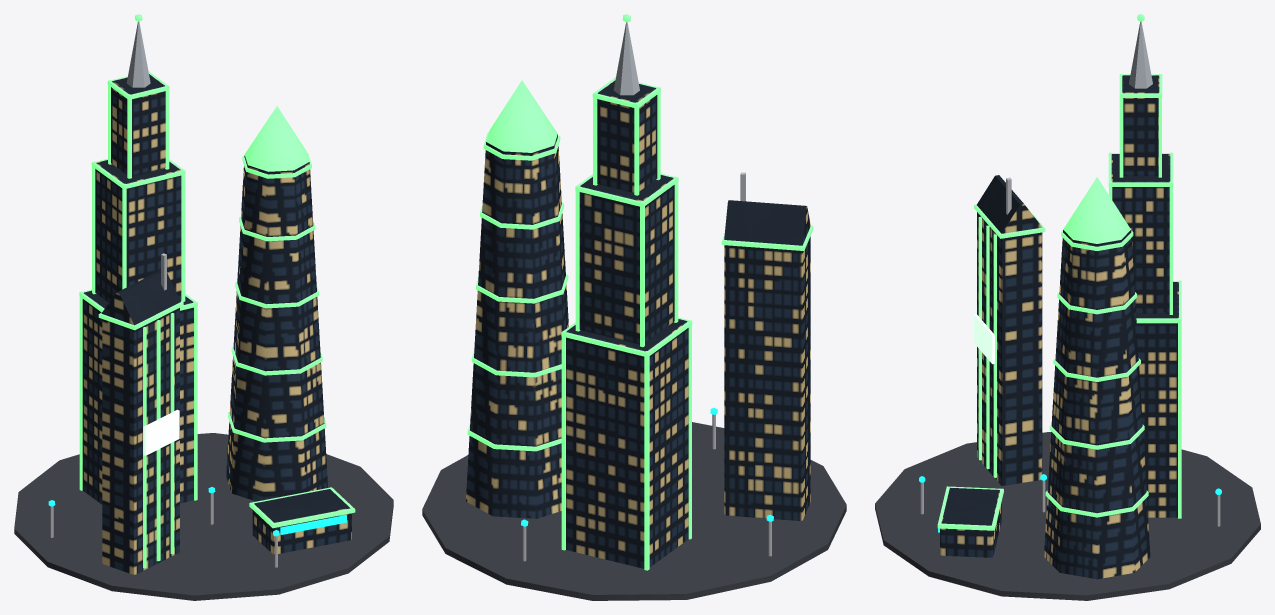
The model's file is city_dl8_green.glb.
The picture shows the model from 3 angles, left to right: view 1: azimuth 30°, elevation 25°; view 2: azimuth 150°, elevation 25°; view 3: azimuth 270°, elevation 25°; orthographic projection. The views are drawn at different scales.
Visible parts, largest first — view 1: city_dl8_green; view 2: city_dl8_green; view 3: city_dl8_green.
Part boxes in pixels (bbox=[...]): city_dl8_green: bbox=[14, 14, 393, 600]; city_dl8_green: bbox=[422, 14, 846, 600]; city_dl8_green: bbox=[875, 14, 1260, 600].
Bounding box in the file's own units: 1.59 × 2.23 × 1.59.
4 materials, 1 textured.
